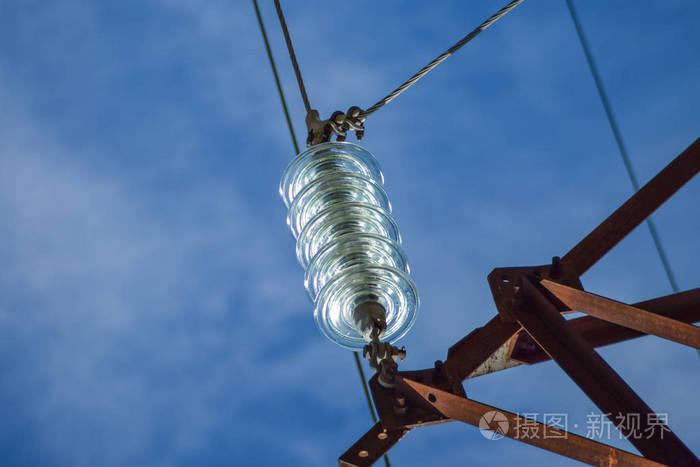insulator: (278, 141, 419, 354)
